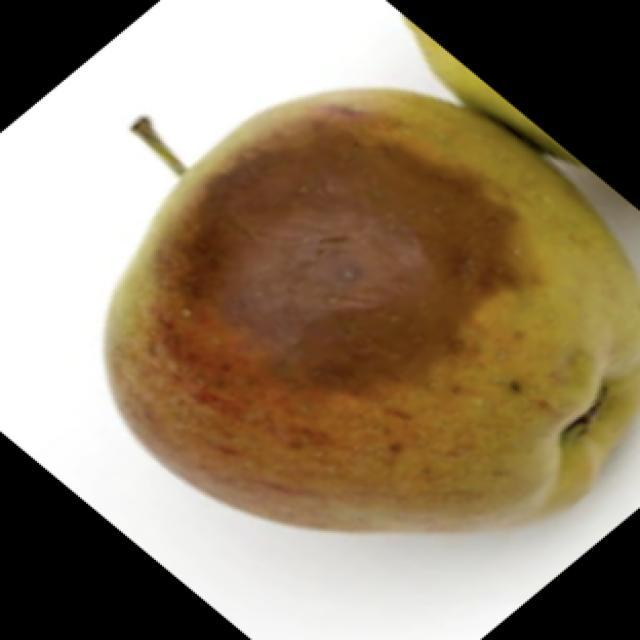Rotten: (125, 93, 628, 552)
